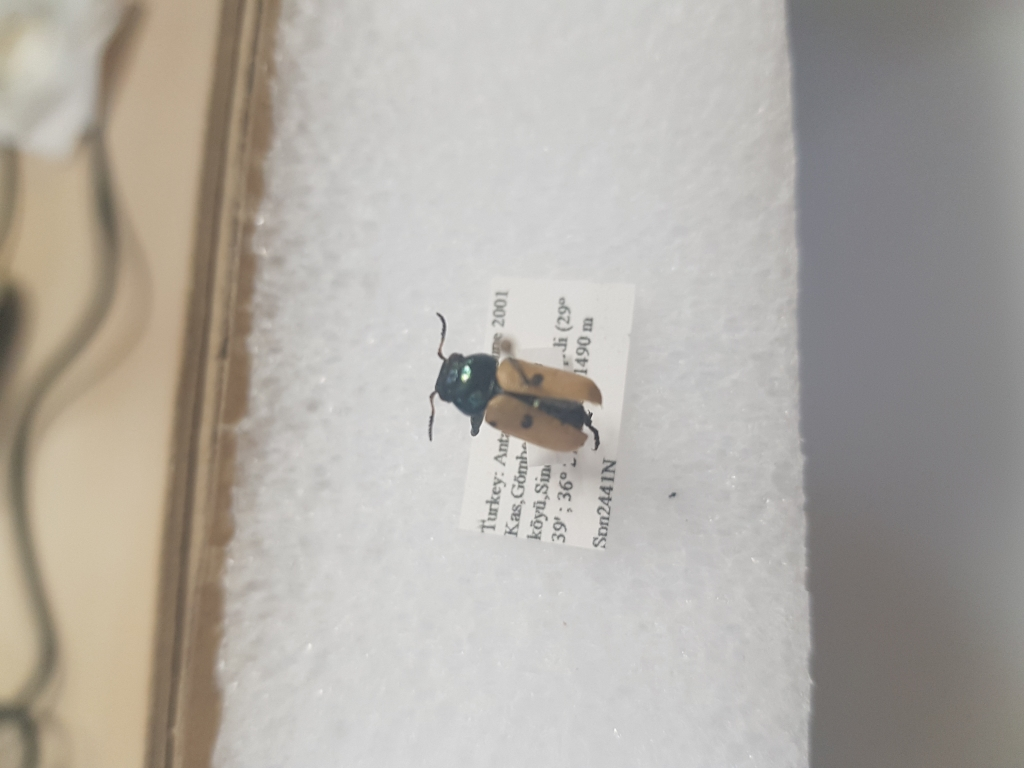Labidostomis_maculipennis: (418, 312, 607, 455)
